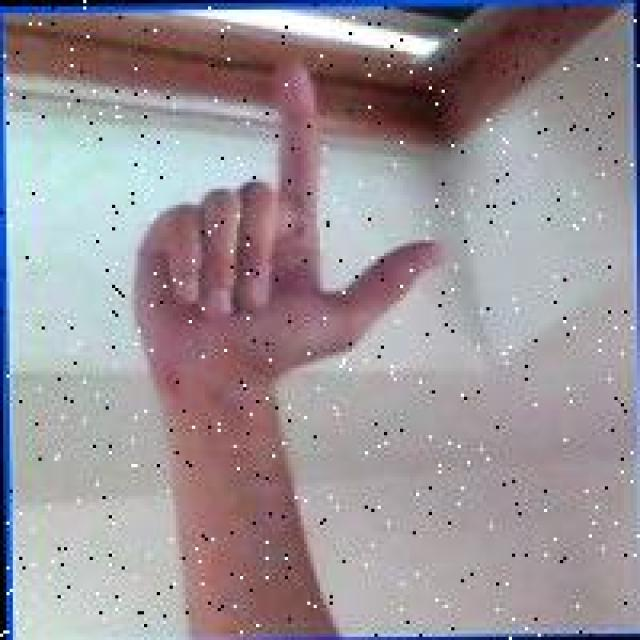L: (125, 54, 448, 410)
